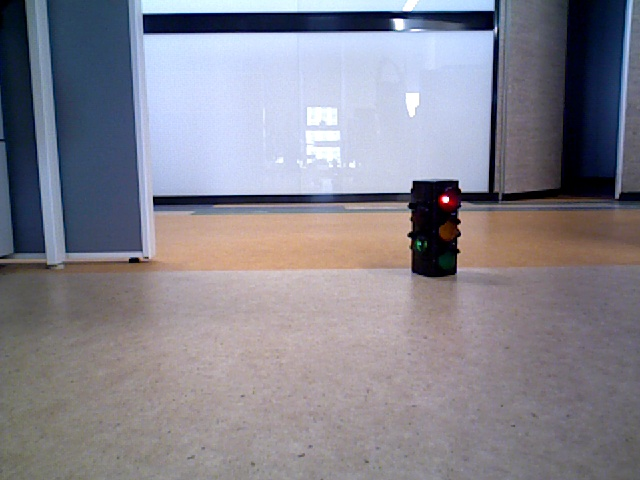red: (412, 182, 457, 273)
